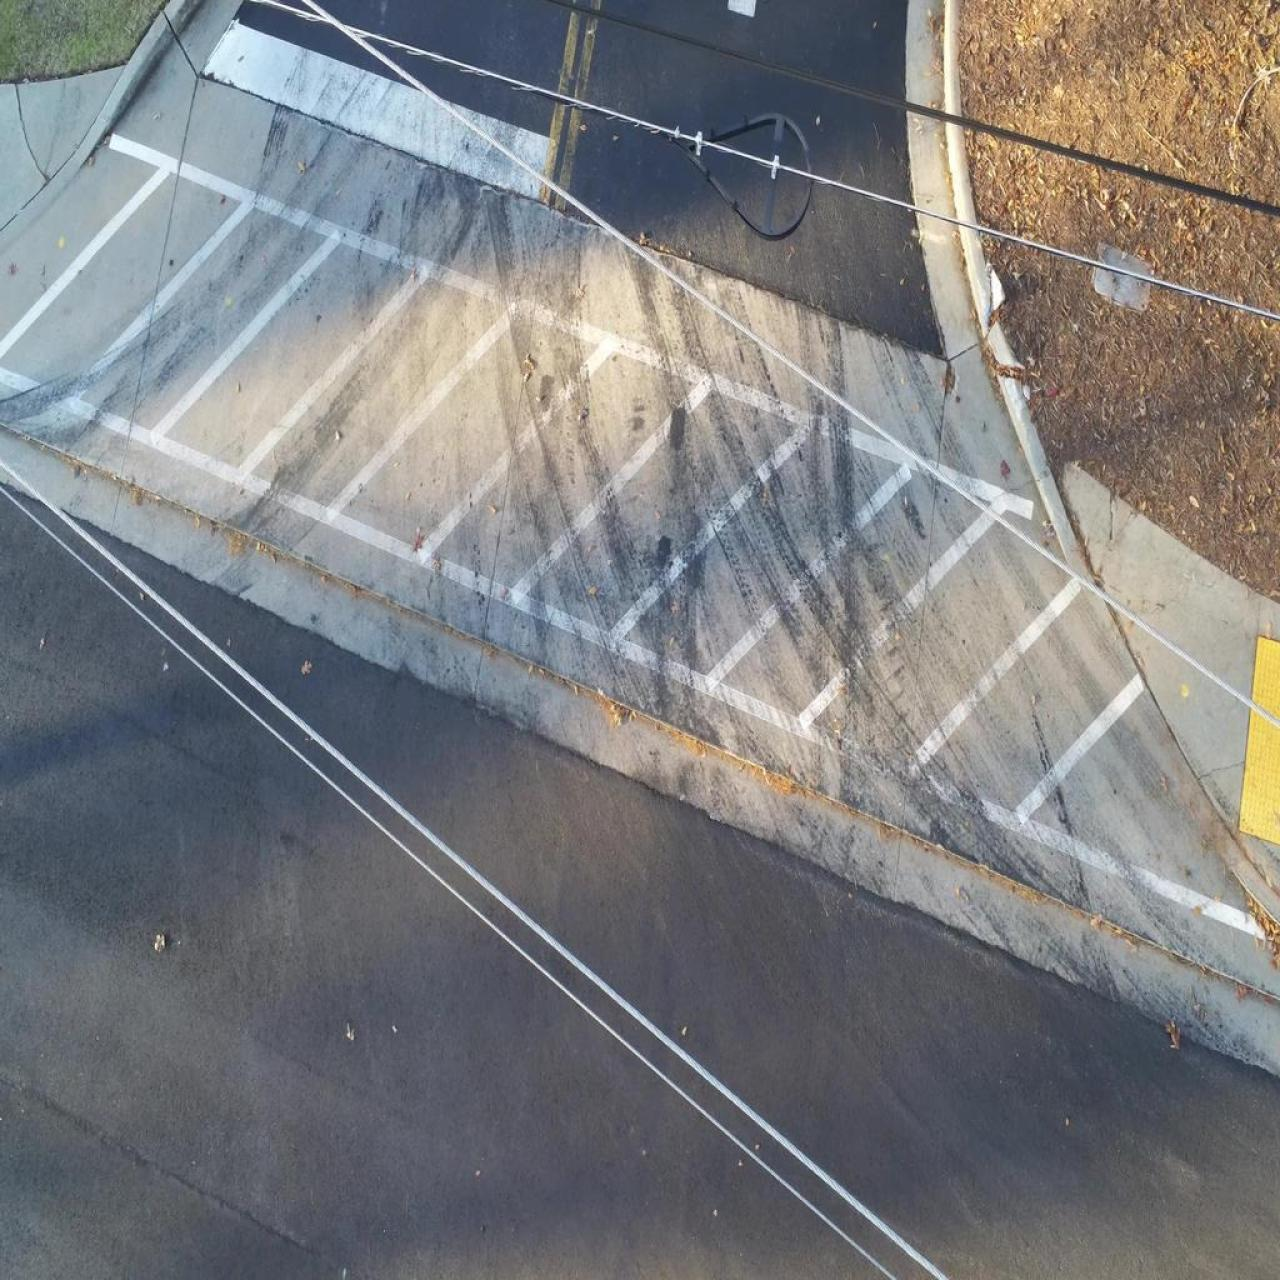cable: (0, 454, 948, 1279), (299, 0, 1279, 730), (1, 486, 898, 1279), (258, 0, 1279, 320), (536, 0, 1279, 216)
